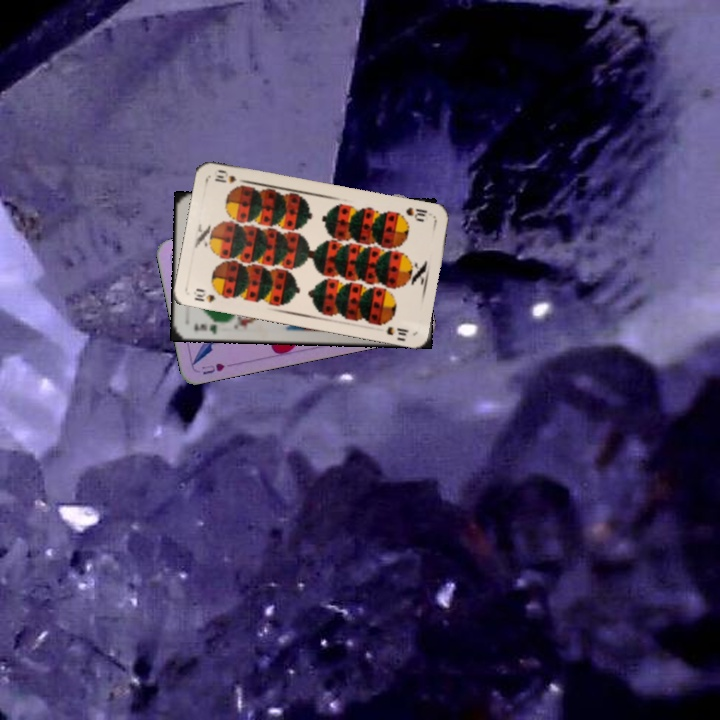GK: (191, 319, 219, 337)
HU: (197, 359, 227, 377)
S10: (190, 284, 227, 305), (402, 203, 430, 224)
